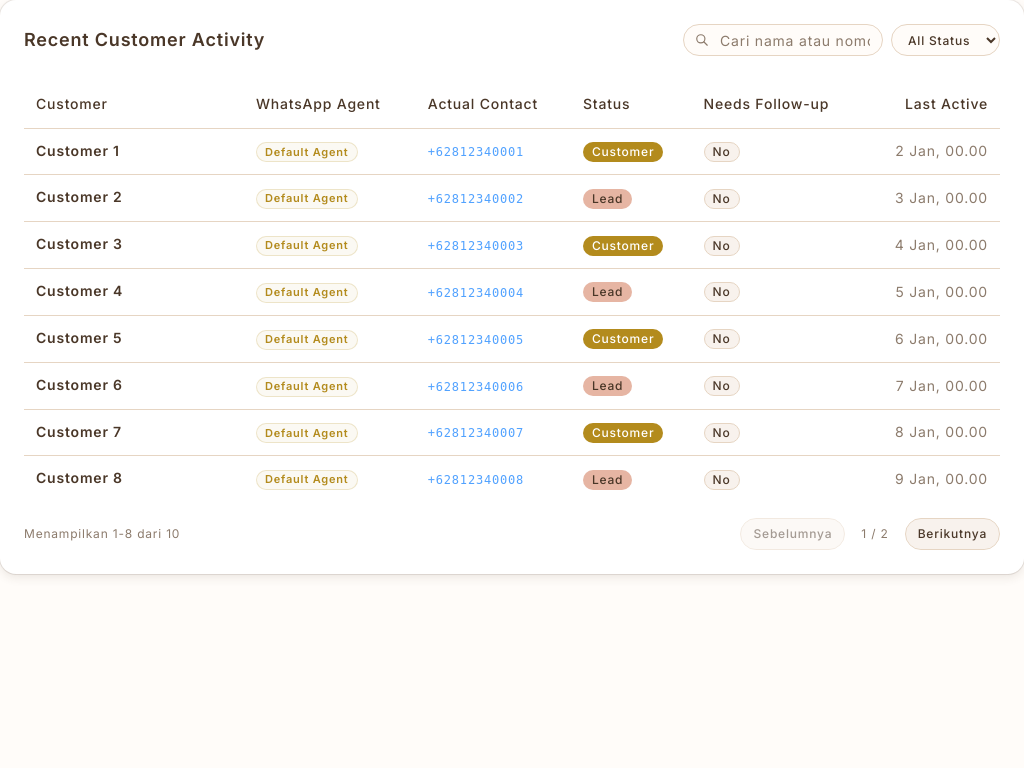
Scenario: RecentActivityTable component › clicking next page shows the next set of leads
Expected: the text "Customer 1" is shown, [24,128,244,172]
Expected: the text "Customer 9" is not shown
// Click next
Click the button "Berikutnya". click: click(952, 534)
box: [905,518,1000,550]
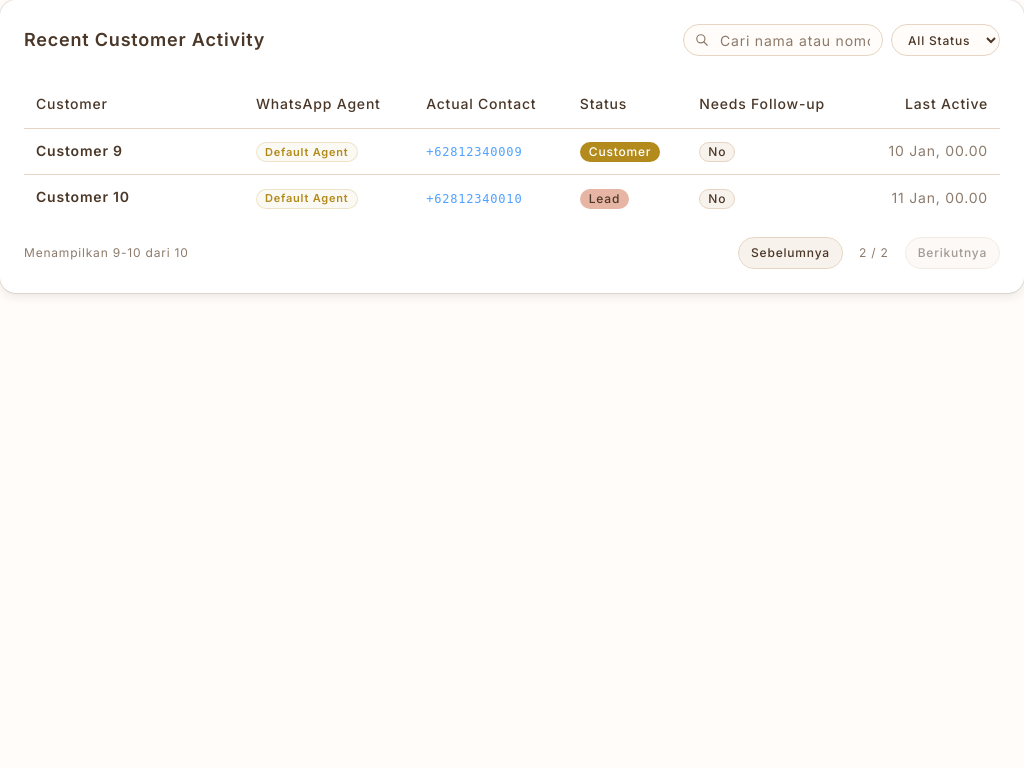
Expected: the text "Customer 9" is shown, [24,128,244,172]
